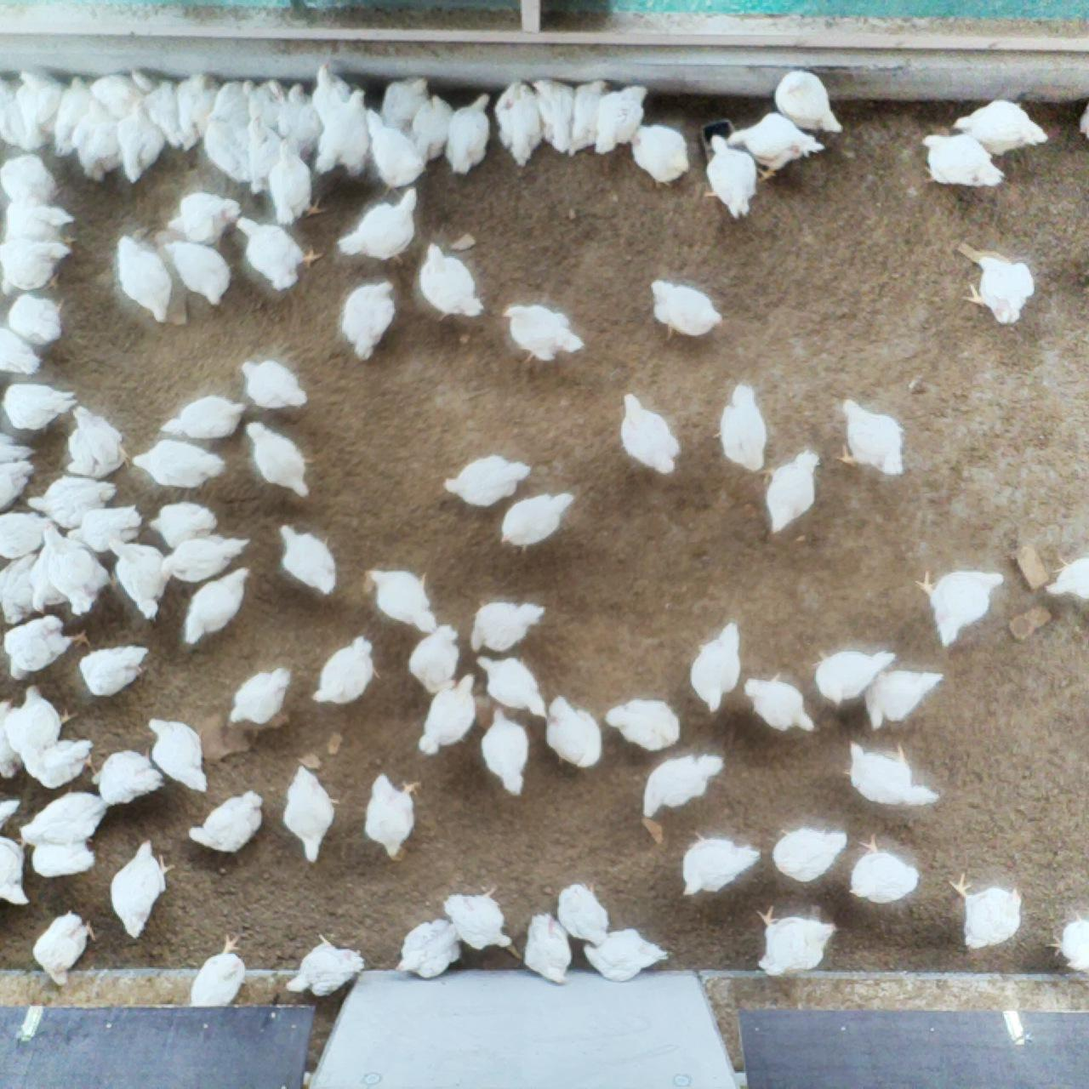chicken: (33, 516, 113, 617), (840, 735, 944, 812), (913, 565, 1007, 650), (722, 111, 828, 185), (107, 835, 180, 941), (3, 684, 80, 781), (234, 214, 327, 294), (334, 186, 422, 269), (945, 867, 1027, 954), (753, 900, 840, 980), (278, 761, 344, 864), (176, 562, 252, 651), (25, 906, 102, 989), (1, 613, 92, 682), (949, 97, 1050, 159), (242, 416, 314, 501), (17, 786, 111, 851), (676, 827, 763, 897), (363, 105, 429, 197), (960, 251, 1038, 328), (756, 448, 823, 537), (104, 533, 170, 623), (846, 832, 923, 908), (616, 391, 684, 477), (835, 397, 907, 478), (412, 673, 479, 760), (861, 666, 948, 733), (284, 929, 368, 998), (114, 232, 175, 326), (641, 751, 724, 820), (146, 713, 214, 797), (810, 646, 899, 710), (267, 136, 331, 225), (64, 401, 135, 481), (24, 474, 120, 533), (495, 489, 578, 557), (362, 770, 424, 861), (578, 925, 672, 985), (711, 381, 771, 475), (419, 241, 486, 325), (500, 302, 587, 366), (306, 634, 381, 708), (686, 618, 743, 715), (699, 132, 761, 221), (129, 437, 230, 491), (441, 881, 517, 951), (363, 564, 439, 634), (769, 822, 852, 886), (918, 132, 1008, 191), (314, 87, 371, 180), (187, 790, 266, 857), (442, 452, 534, 509), (771, 68, 848, 136), (474, 654, 552, 721), (158, 532, 254, 586), (647, 277, 724, 343), (276, 519, 340, 598), (338, 279, 398, 363), (162, 238, 234, 308), (742, 672, 818, 738), (478, 707, 532, 799), (493, 77, 545, 170), (543, 694, 605, 771), (70, 95, 124, 183), (469, 595, 549, 654), (626, 122, 694, 191), (21, 732, 98, 792), (393, 918, 465, 982), (604, 696, 683, 754), (188, 933, 249, 1008), (225, 665, 295, 730), (89, 748, 166, 807), (165, 191, 243, 249), (156, 393, 249, 441), (0, 234, 73, 295), (444, 91, 494, 180), (114, 98, 165, 185), (77, 642, 153, 700), (130, 65, 183, 148), (406, 621, 464, 696), (592, 83, 650, 157), (0, 379, 79, 433), (521, 909, 574, 986), (276, 81, 325, 162), (144, 500, 220, 551), (566, 78, 612, 162), (529, 76, 578, 154), (174, 70, 220, 153), (238, 358, 310, 410), (50, 74, 93, 159), (4, 195, 78, 244), (556, 879, 609, 947), (202, 115, 254, 183), (5, 291, 67, 348), (15, 66, 56, 151), (379, 74, 431, 141), (0, 550, 45, 627), (408, 91, 456, 162), (1039, 903, 1089, 971), (245, 115, 284, 196), (0, 151, 60, 202), (29, 838, 101, 880), (88, 71, 145, 123), (310, 61, 352, 130), (0, 510, 55, 561), (30, 552, 73, 615), (0, 833, 32, 906), (246, 77, 289, 131), (1040, 555, 1089, 601), (0, 459, 39, 516), (0, 325, 43, 376), (209, 78, 254, 126), (33, 79, 68, 140), (0, 697, 23, 781), (0, 430, 38, 465), (0, 96, 24, 148), (0, 798, 24, 830)
